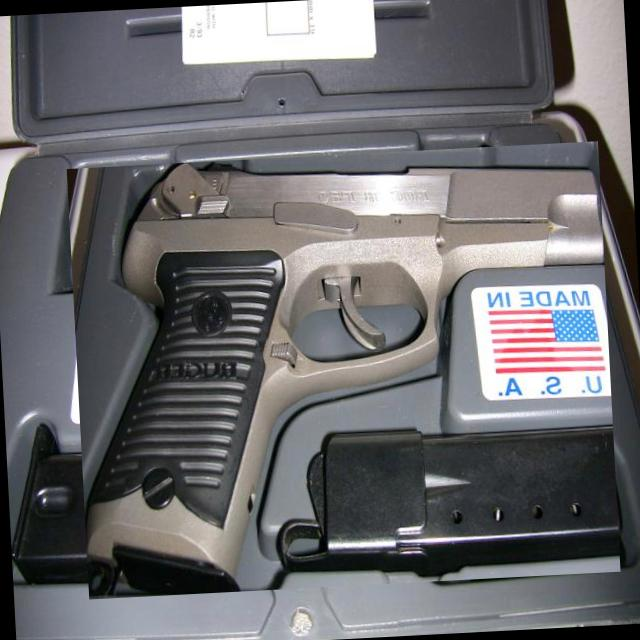Gun: (87, 163, 604, 593)
